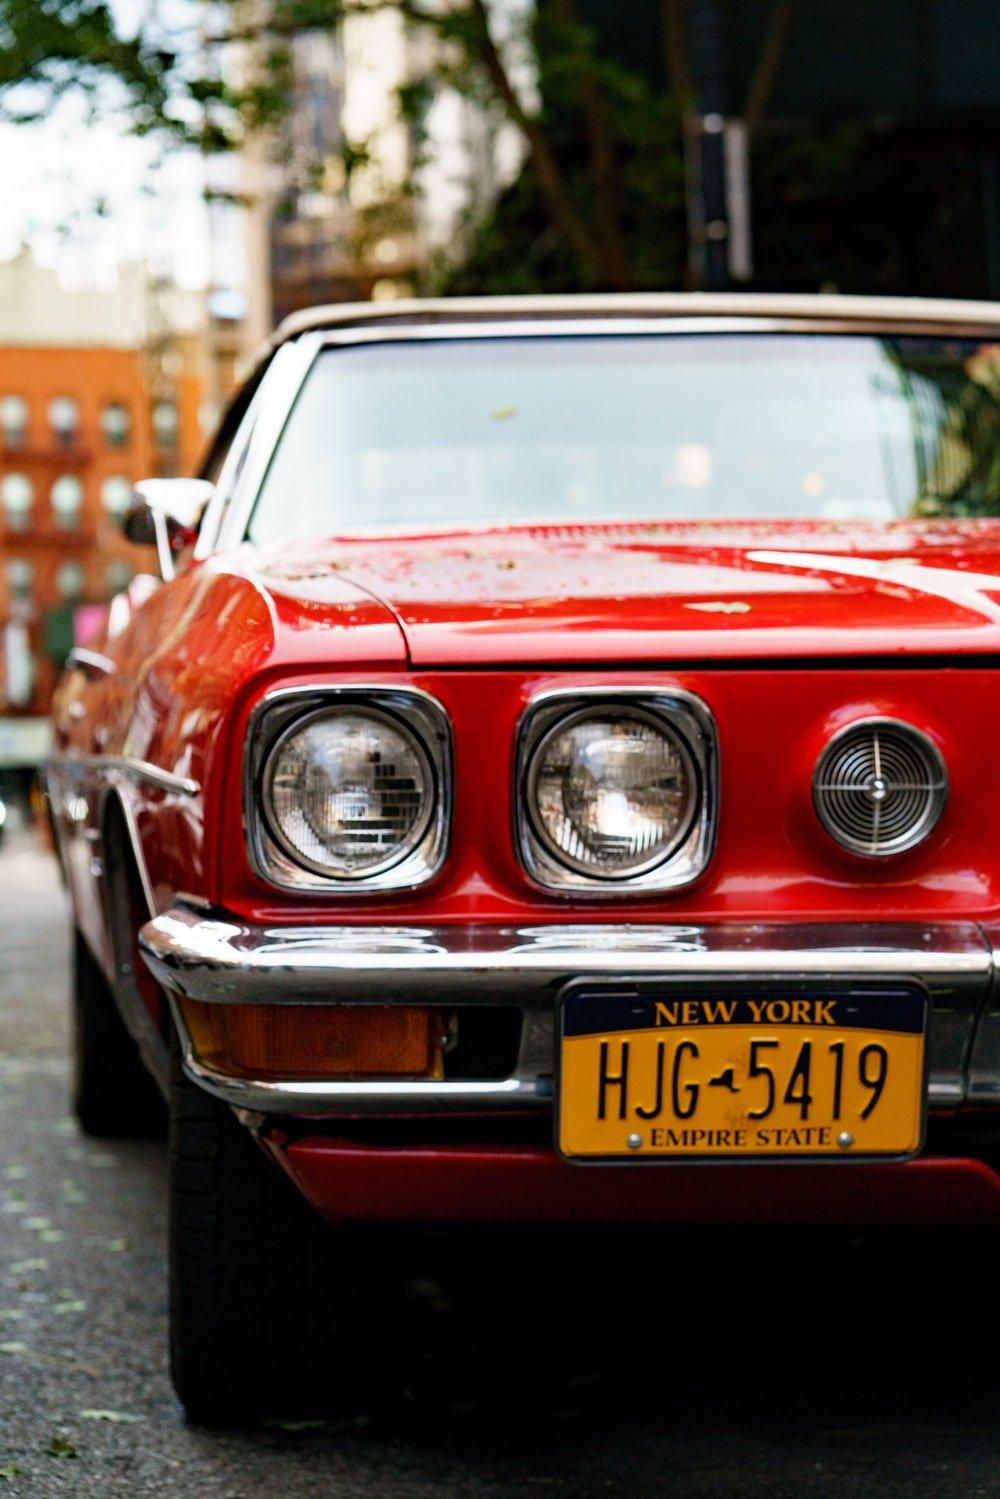Liscence Plate: (556, 991, 924, 1160)
